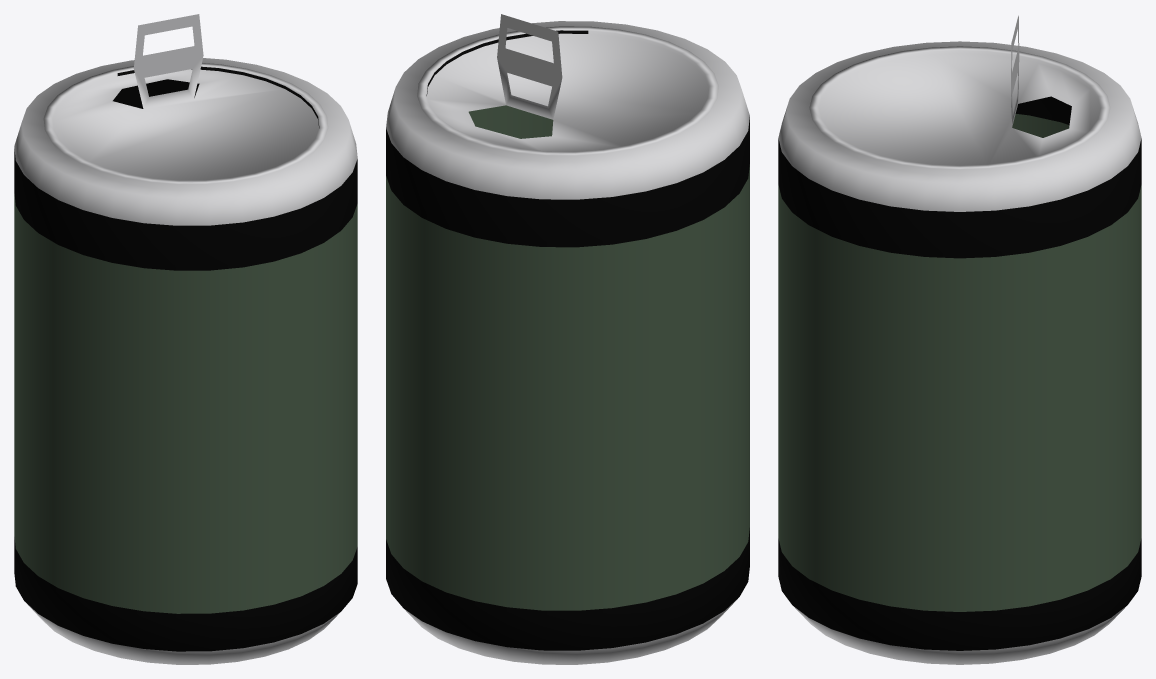
The model's file is beer.glb.
3 renders of one model, left to right at view 1: azimuth 30°, elevation 25°; view 2: azimuth 150°, elevation 25°; view 3: azimuth 270°, elevation 25°, orthographic. The views are drawn at different scales.
Parts seen in each view (by area): view 1: Beer; view 2: Beer; view 3: Beer.
Part boxes in pixels (<box>): Beer: <box>14,14,357,664</box>; Beer: <box>386,14,749,664</box>; Beer: <box>778,15,1141,664</box>.
Size of the model in its own units: 0.0837 by 0.151 by 0.0865.
1 material, 1 textured.
